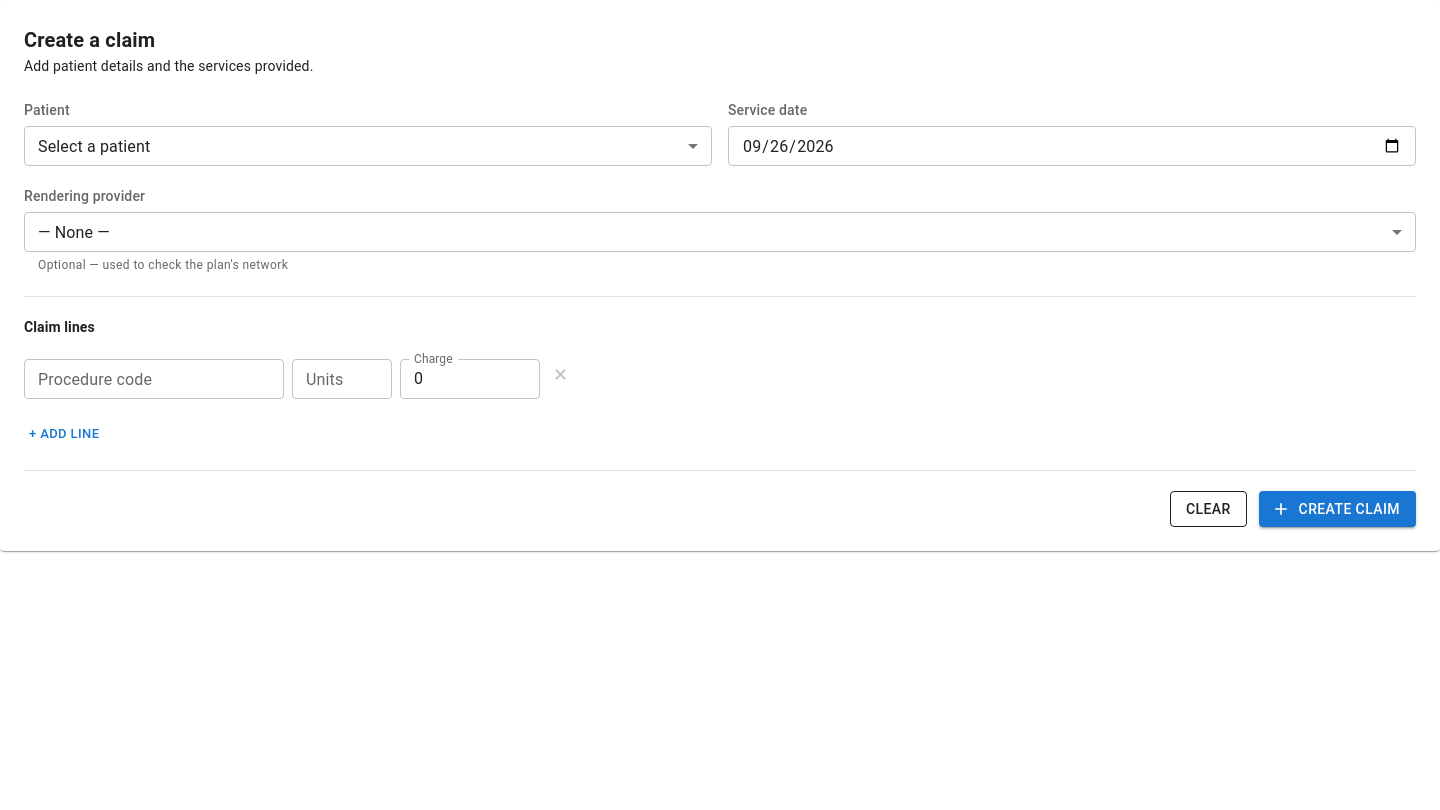
Test: CreateClaimForm › blocks submit when no patient is selected
Type "99213" into the dropdown labelled "Procedure code" at (152, 379), box top-left (30, 365), bottom-right (275, 393)
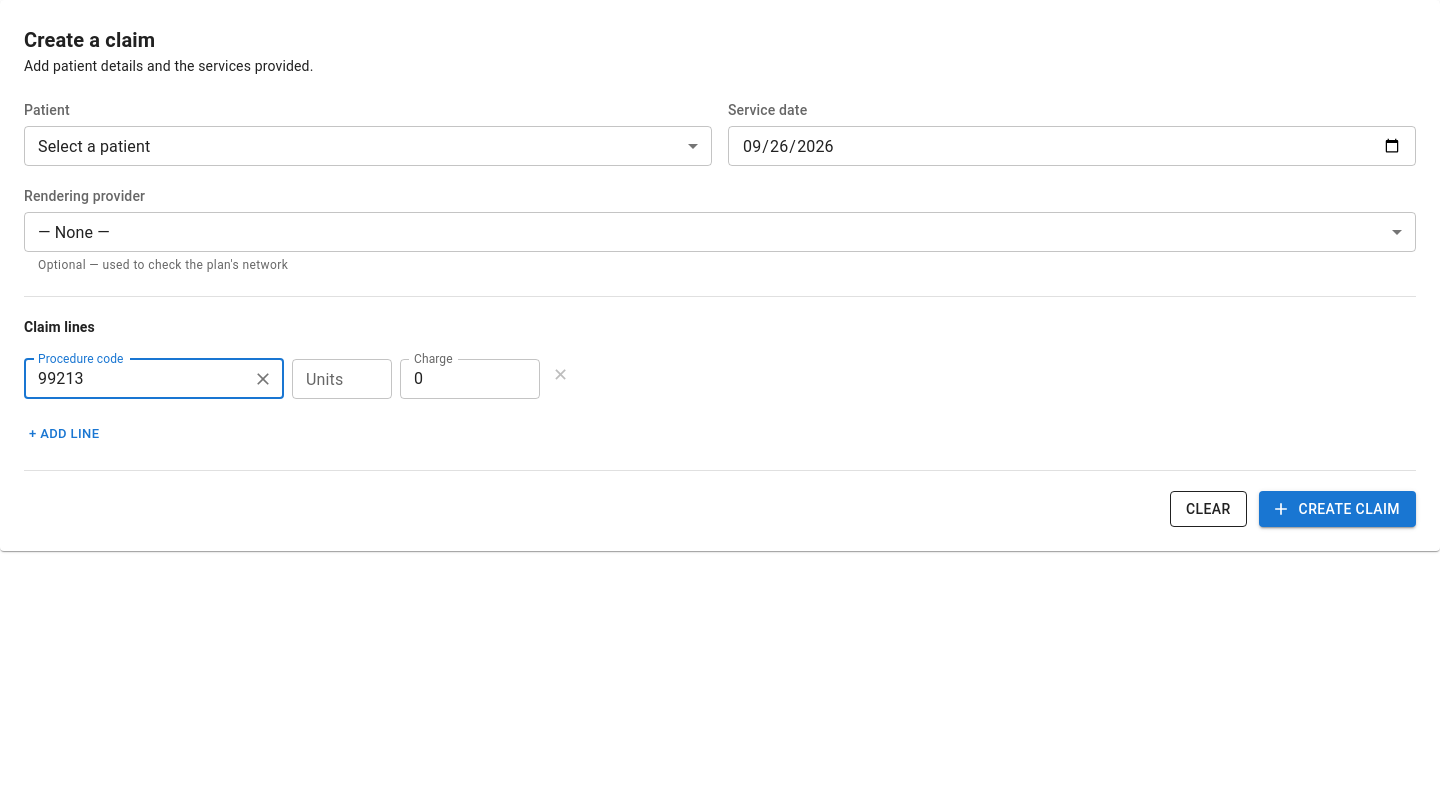
Type "150" into the number field labelled "Charge" at (470, 379), box top-left (400, 359), bottom-right (540, 399)
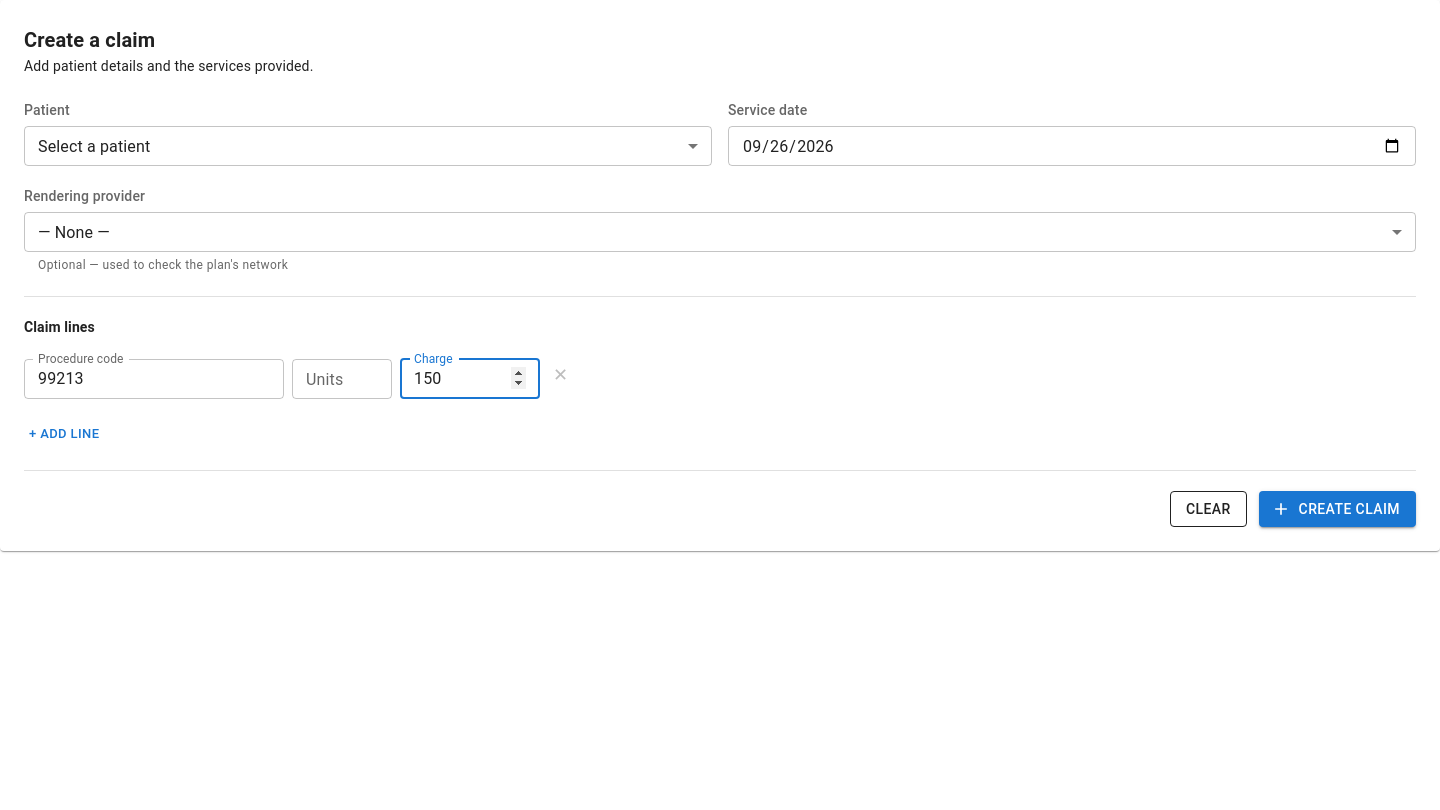
Click the button "Create claim" at (1337, 509), box top-left (1259, 491), bottom-right (1416, 527)
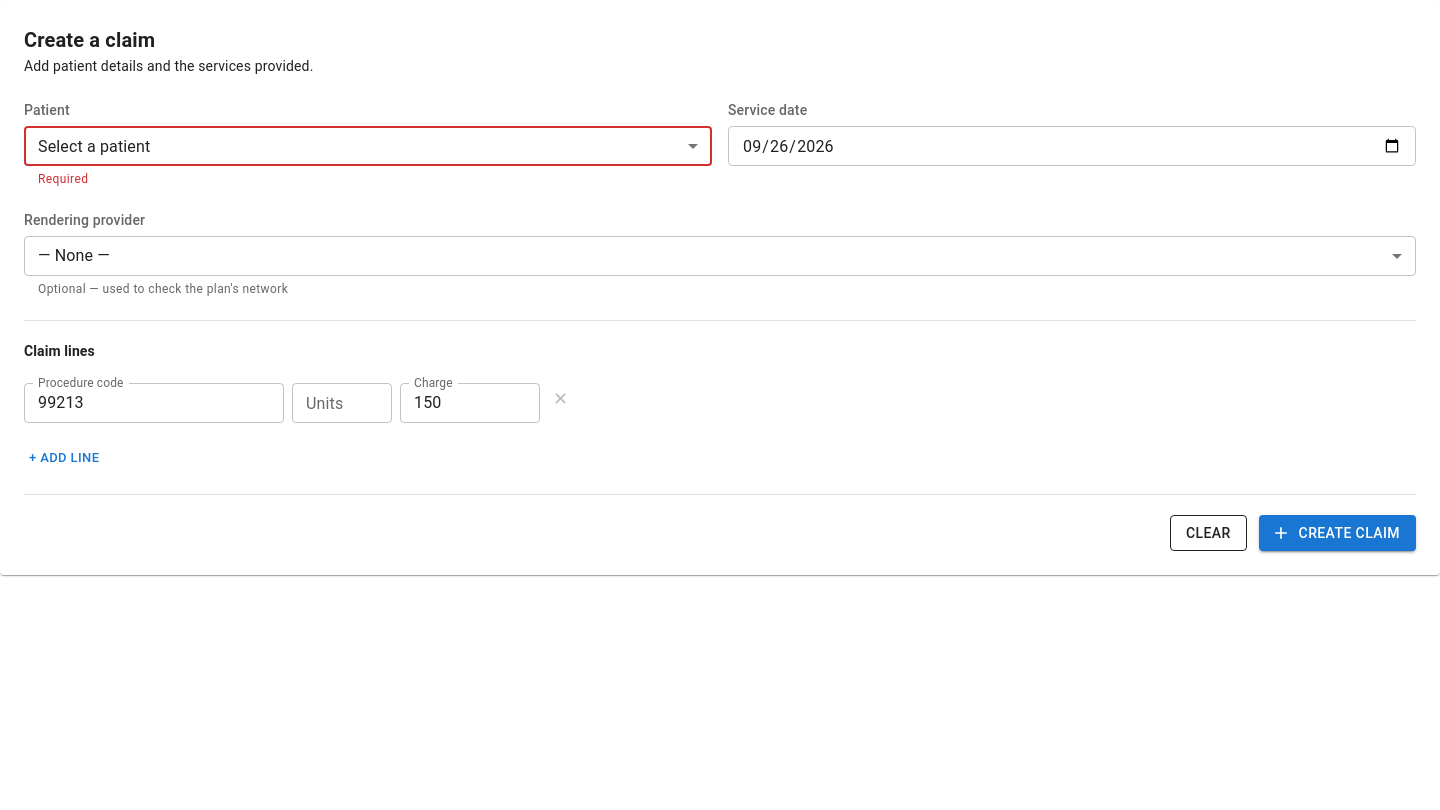
Result: the text "Required" is shown at top-left (38, 172), bottom-right (88, 186)
